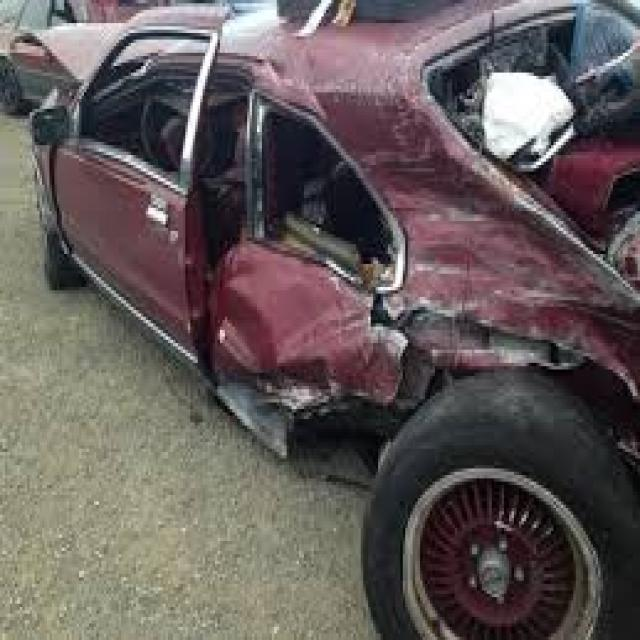moderate: (237, 76, 572, 416)
